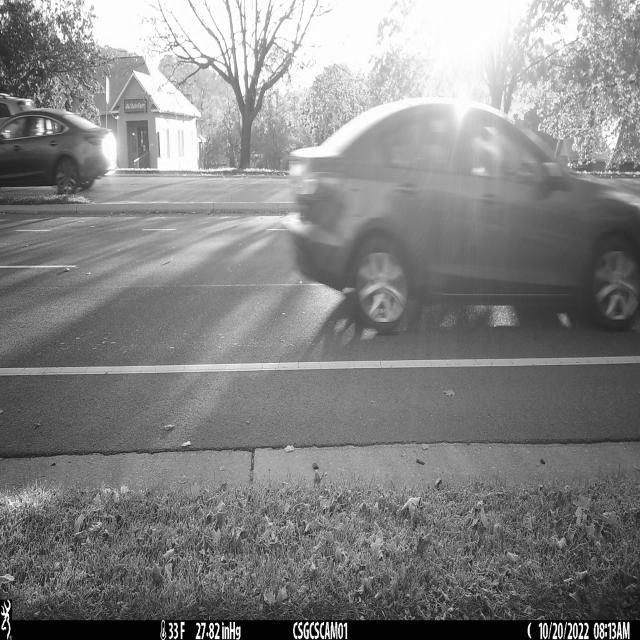Sedan: (283, 98, 640, 335)
